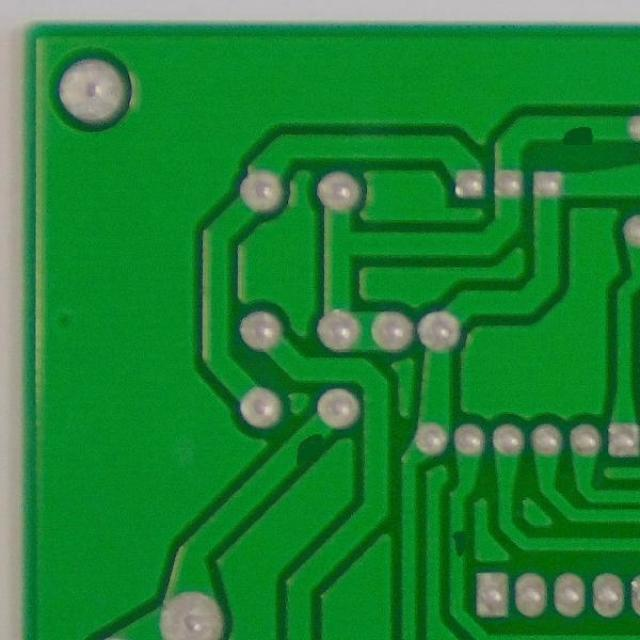mouse_bite: (287, 424, 331, 474), (550, 113, 598, 150), (444, 529, 474, 562)
